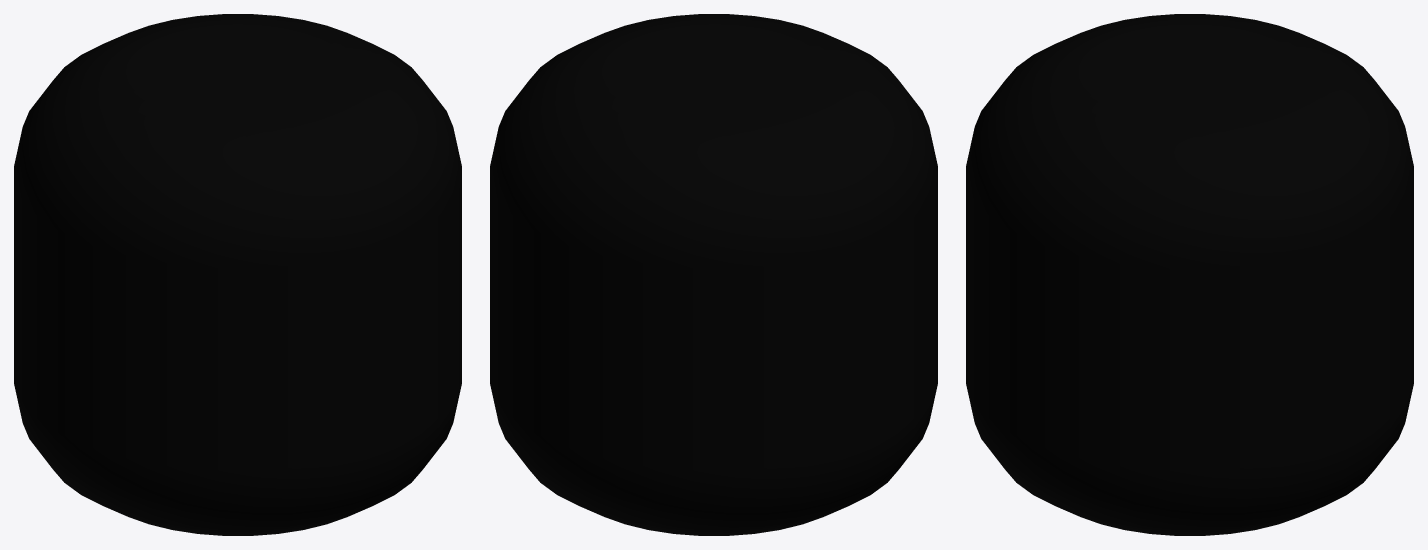
The model's file is head.obj.
3 views of the same model, side by side, from view 1: azimuth 30°, elevation 25°; view 2: azimuth 150°, elevation 25°; view 3: azimuth 270°, elevation 25° (orthographic).
Visible parts, largest first — view 1: Face; view 2: Face; view 3: Face.
Part boxes in pixels (bbox=[...]): Face: bbox=[14, 14, 461, 535]; Face: bbox=[490, 14, 937, 535]; Face: bbox=[966, 14, 1413, 535].
Size of the model in its own units: 1.21 by 1.21 by 1.21.
